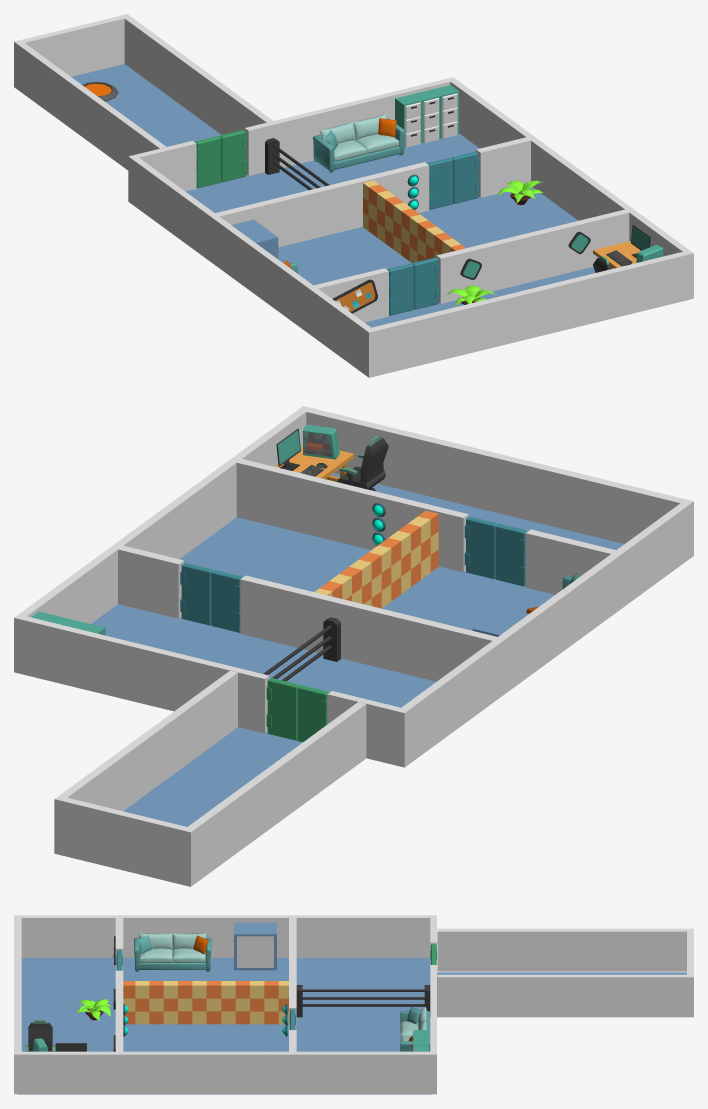
File: maps_30.fbx
3 views of the same model, one above another, from view 1: azimuth 30°, elevation 25°; view 2: azimuth 150°, elevation 25°; view 3: azimuth 270°, elevation 25° (orthographic). The views are drawn at different scales.
Visible parts, largest first — view 1: polySurface144, polySurface195, polySurface196, polySurface199, polySurface191, polySurface198, polySurface262, polySurface263, polySurface193, polySurface265, polySurface264, polySurface6 (×3) (+13 smaller); view 2: polySurface144, polySurface196, polySurface195, polySurface198, polySurface193, polySurface191, polySurface199, polySurface262, polySurface263, polySurface264, polySurface265, polySurface6 (×3) (+8 smaller); view 3: polySurface144, polySurface191, polySurface196, polySurface262, polySurface263, sofa_geo1, polySurface195, tu_02_01_geo, sofa_geo, polySurface265, polySurface198, polySurface199 (+12 smaller).
Part boxes in pixels (bbox=[...]): polySurface144: bbox=[186, 134, 595, 327]; polySurface195: bbox=[372, 251, 687, 376]; polySurface196: bbox=[128, 155, 375, 377]; polySurface199: bbox=[436, 209, 629, 303]; polySurface191: bbox=[447, 77, 693, 299]; polySurface198: bbox=[215, 162, 429, 247]; polySurface262: bbox=[18, 43, 166, 170]; polySurface263: bbox=[124, 17, 272, 134]; polySurface193: bbox=[244, 79, 450, 176]; polySurface265: bbox=[71, 64, 247, 188]; polySurface264: bbox=[14, 14, 130, 89]; polySurface6 (×3): bbox=[219, 130, 479, 309]; polySurface144: bbox=[91, 473, 624, 707]; polySurface196: bbox=[396, 499, 693, 767]; polySurface195: bbox=[306, 408, 685, 543]; polySurface198: bbox=[240, 575, 497, 681]; polySurface193: bbox=[22, 616, 269, 733]; polySurface191: bbox=[14, 406, 310, 674]; polySurface199: bbox=[236, 459, 468, 572]; polySurface262: bbox=[188, 702, 366, 882]; polySurface263: bbox=[59, 671, 237, 811]; polySurface264: bbox=[54, 796, 195, 886]; polySurface265: bbox=[123, 727, 302, 826]; polySurface6 (×3): bbox=[180, 516, 497, 740]; polySurface144: bbox=[18, 958, 430, 1094]; polySurface191: bbox=[14, 1051, 436, 1094]; polySurface196: bbox=[14, 915, 436, 957]; polySurface262: bbox=[437, 928, 687, 971]; polySurface263: bbox=[437, 974, 687, 1017]; sofa_geo1: bbox=[134, 933, 211, 971]; polySurface195: bbox=[14, 918, 21, 1051]; tu_02_01_geo: bbox=[234, 922, 276, 970]; sofa_geo: bbox=[400, 1007, 429, 1051]; polySurface265: bbox=[437, 972, 686, 1016]; polySurface198: bbox=[289, 918, 296, 1029]; polySurface199: bbox=[115, 970, 123, 1051].
Bounding box in the file's own units: 66.51 × 9.97 × 137.
Materials: 16 (15 with a texture image).
